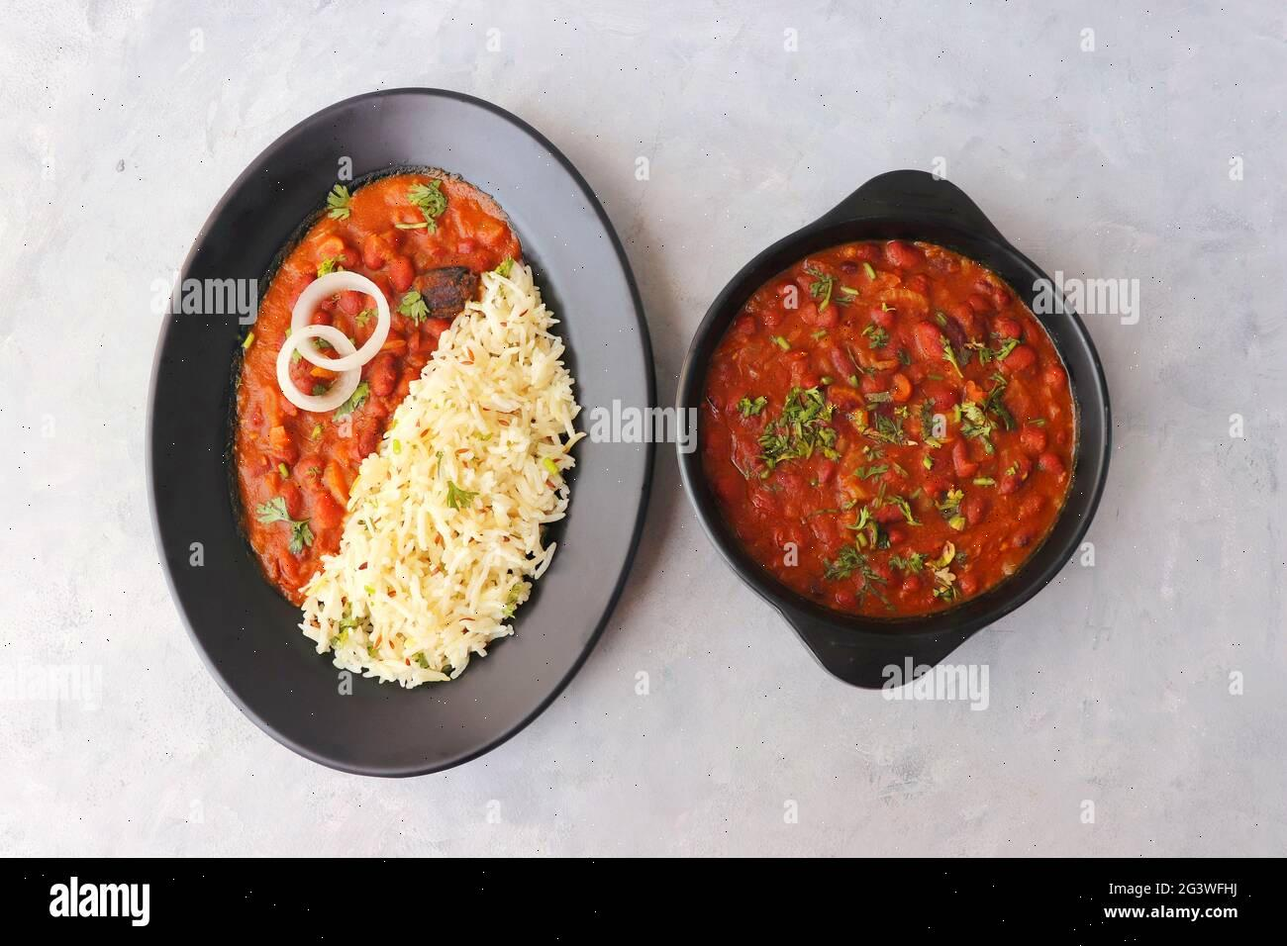rajma: (723, 250, 1084, 633), (257, 198, 418, 401)
rice: (391, 421, 549, 695)
